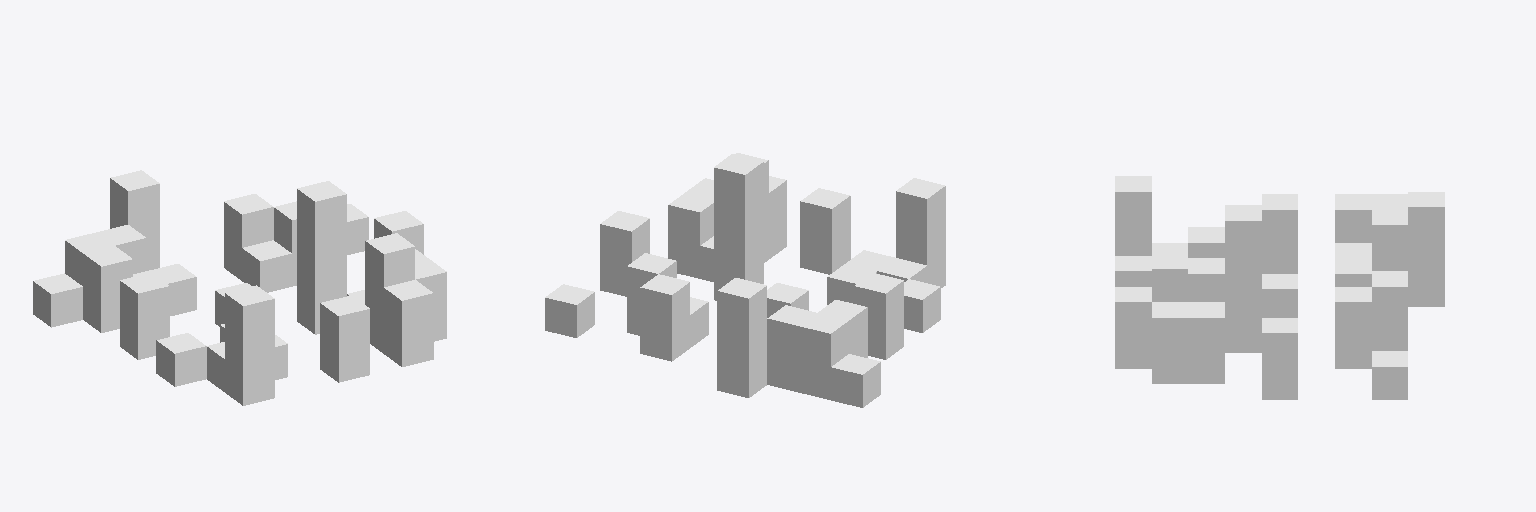
The model's file is grass-montain4.obj.
3 views of the same model, side by side, from view 1: azimuth 30°, elevation 25°; view 2: azimuth 150°, elevation 25°; view 3: azimuth 270°, elevation 25° (orthographic).
Parts seen in each view (by area): view 1: object 1; view 2: object 1; view 3: object 1.
Boxes of the visible parts, x1=… form: object 1: x1=33, y1=170, x2=446, y2=405; object 1: x1=545, y1=153, x2=945, y2=407; object 1: x1=1115, y1=176, x2=1444, y2=399.
Bounding box in the file's own units: 1 × 0.4 × 0.9.